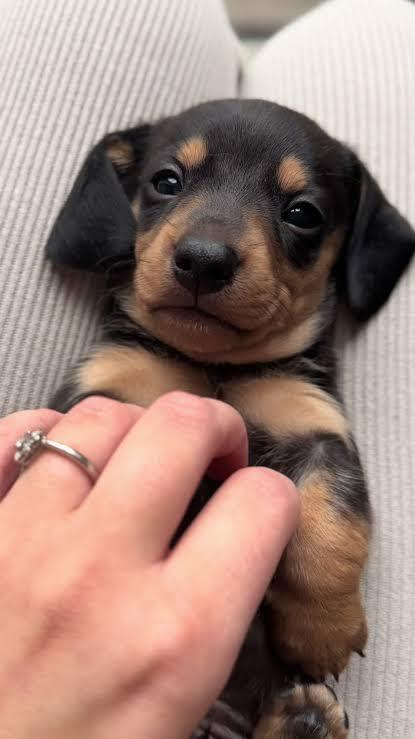puppy-dog: (43, 96, 415, 739)
